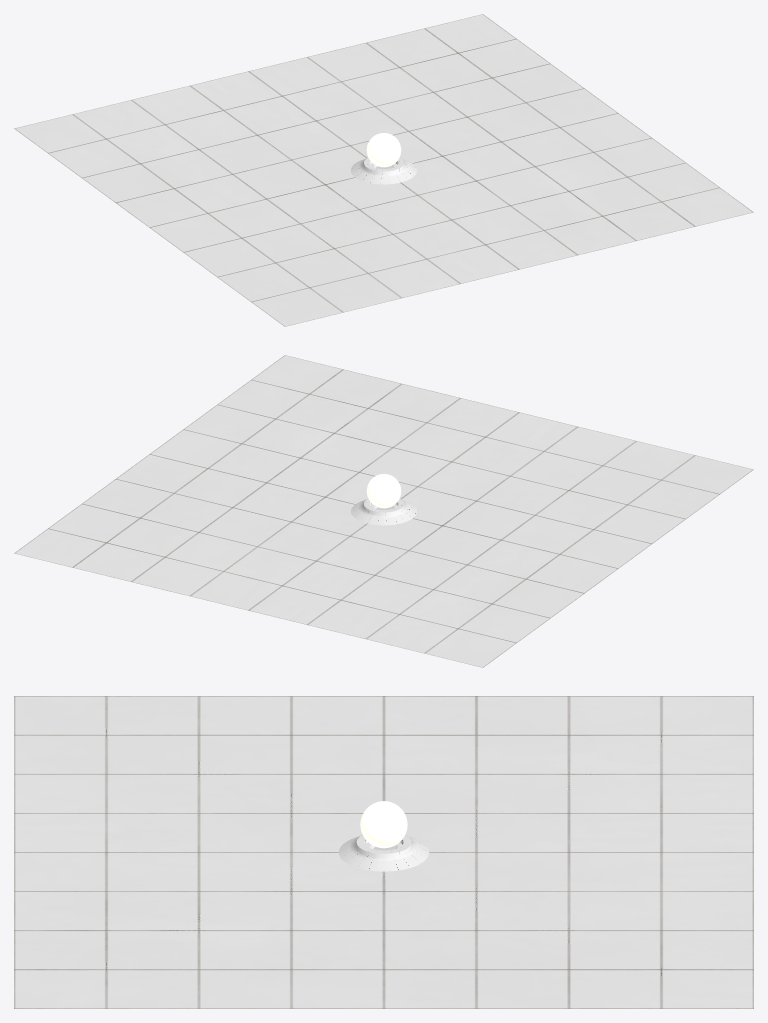
File: demo.fbx
The picture shows the model from 3 angles, top to bottom: view 1: azimuth 30°, elevation 25°; view 2: azimuth 150°, elevation 25°; view 3: azimuth 270°, elevation 25°; orthographic projection. The views are drawn at different scales.
Parts seen in each view (by area): view 1: Plane.001; view 2: Plane.001; view 3: Plane.001.
Boxes of the visible parts, bbox=[...] form: Plane.001: bbox=[14, 14, 753, 326]; Plane.001: bbox=[14, 355, 753, 667]; Plane.001: bbox=[14, 696, 753, 1008].
Size of the model in its own units: 3136 by 230 by 3136.
4 materials, 2 textured.
